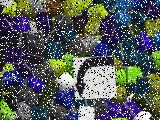Left: (73, 56, 117, 100)
